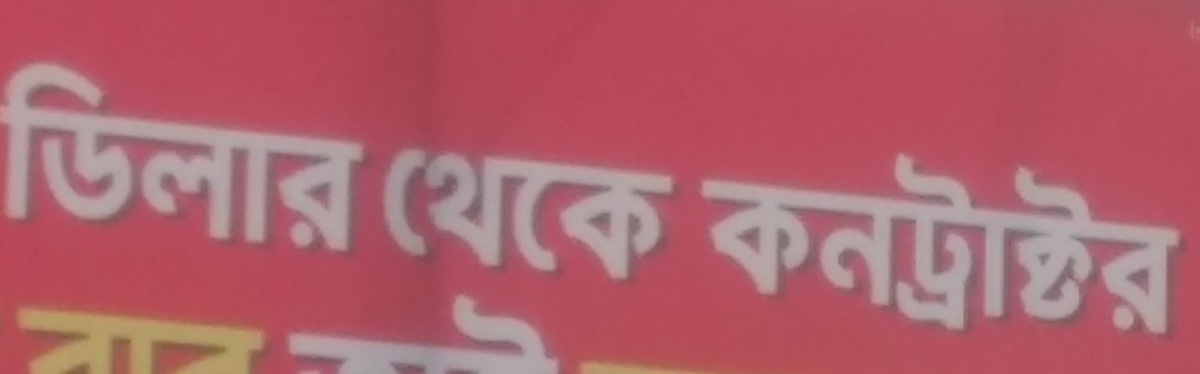text: (705, 130, 720, 366), (721, 130, 736, 366), (737, 130, 752, 366), (753, 130, 768, 366), (769, 130, 784, 366), (785, 130, 800, 366), (801, 130, 816, 366), (817, 130, 832, 366), (833, 130, 848, 366), (849, 130, 864, 366), (865, 130, 880, 366), (881, 130, 896, 366), (897, 130, 912, 366), (913, 130, 928, 366), (929, 130, 944, 366), (945, 130, 960, 366), (961, 130, 976, 366), (977, 130, 992, 366), (993, 130, 1008, 366), (1009, 130, 1024, 366), (1025, 130, 1040, 366), (1041, 130, 1056, 366), (1057, 130, 1072, 366), (1073, 130, 1088, 366), (1089, 130, 1104, 366), (1105, 130, 1120, 366), (1121, 130, 1136, 366), (1137, 130, 1152, 366), (1153, 130, 1168, 366), (1169, 130, 1184, 366), (353, 52, 369, 257), (1, 52, 16, 257), (17, 52, 32, 257), (33, 52, 48, 257), (49, 52, 64, 257), (65, 52, 80, 257), (81, 52, 96, 257), (97, 52, 112, 257), (113, 52, 128, 257), (129, 52, 144, 257), (145, 52, 160, 257), (161, 52, 176, 257), (177, 52, 192, 257), (193, 52, 208, 257), (209, 52, 224, 257), (225, 52, 240, 257), (241, 52, 256, 257), (257, 52, 272, 257), (273, 52, 288, 257), (289, 52, 304, 257), (305, 52, 320, 257), (321, 52, 336, 257), (337, 52, 352, 257), (1185, 130, 1197, 366), (385, 139, 400, 292), (401, 139, 416, 292), (417, 139, 432, 292), (433, 139, 448, 292), (449, 139, 464, 292), (465, 139, 480, 292), (481, 139, 496, 292), (497, 139, 512, 292), (513, 139, 528, 292), (529, 139, 544, 292), (545, 139, 560, 292), (561, 139, 576, 292), (577, 139, 592, 292), (593, 139, 608, 292), (609, 139, 624, 292), (625, 139, 640, 292), (641, 139, 656, 292), (657, 139, 672, 292), (673, 139, 684, 292), (305, 271, 320, 374), (321, 271, 336, 374), (337, 271, 352, 374), (353, 271, 368, 374), (369, 271, 384, 374), (385, 271, 400, 374), (401, 271, 416, 374), (417, 271, 432, 374), (433, 271, 448, 374), (449, 271, 464, 374), (465, 271, 480, 374), (481, 271, 496, 374), (497, 271, 512, 374), (513, 271, 528, 374), (529, 271, 544, 374), (545, 271, 560, 374), (290, 271, 304, 374), (17, 298, 32, 374), (33, 298, 48, 374), (49, 298, 64, 374), (65, 298, 80, 374), (81, 298, 96, 374), (97, 298, 112, 374), (113, 298, 128, 374), (129, 298, 144, 374), (145, 298, 160, 374), (161, 298, 176, 374), (177, 298, 192, 374), (193, 298, 208, 374), (209, 298, 224, 374), (225, 298, 240, 374), (241, 298, 256, 374), (257, 298, 271, 374), (11, 298, 16, 374), (577, 354, 592, 373), (593, 354, 608, 373), (609, 354, 624, 373), (625, 354, 640, 373), (641, 354, 656, 373), (657, 354, 672, 373), (673, 354, 688, 373), (689, 354, 704, 373), (705, 354, 720, 373), (703, 130, 704, 366), (721, 354, 733, 373), (561, 271, 563, 374), (574, 354, 576, 373)
